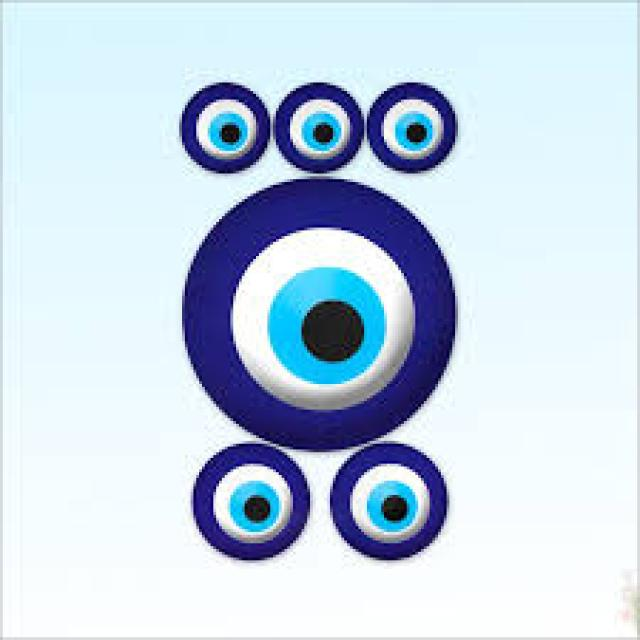Nazar-Boncugu: (182, 176, 461, 455), (191, 441, 313, 563)
